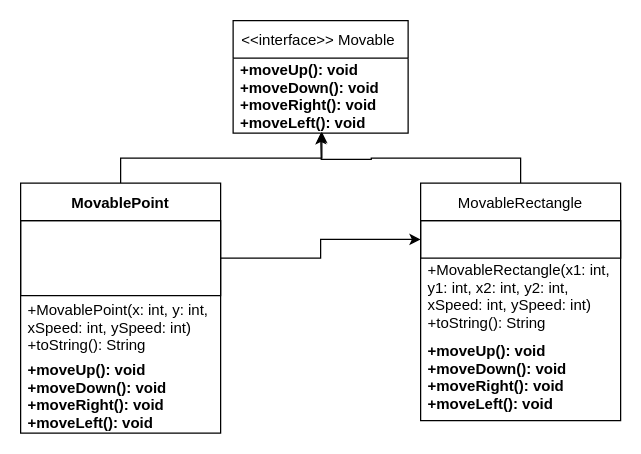
Some shapes in this 641 by 454 pixel diagram are drawn without their labels. The centre of each missing label's shape, as x and y in pixels:
"-topLeft: MovablePoint -bottomRight: MovablePoint" goes at (520,238).
"~x: int ~y: int ~xSpeed: int ~ySpeed: int" goes at (120,257).
